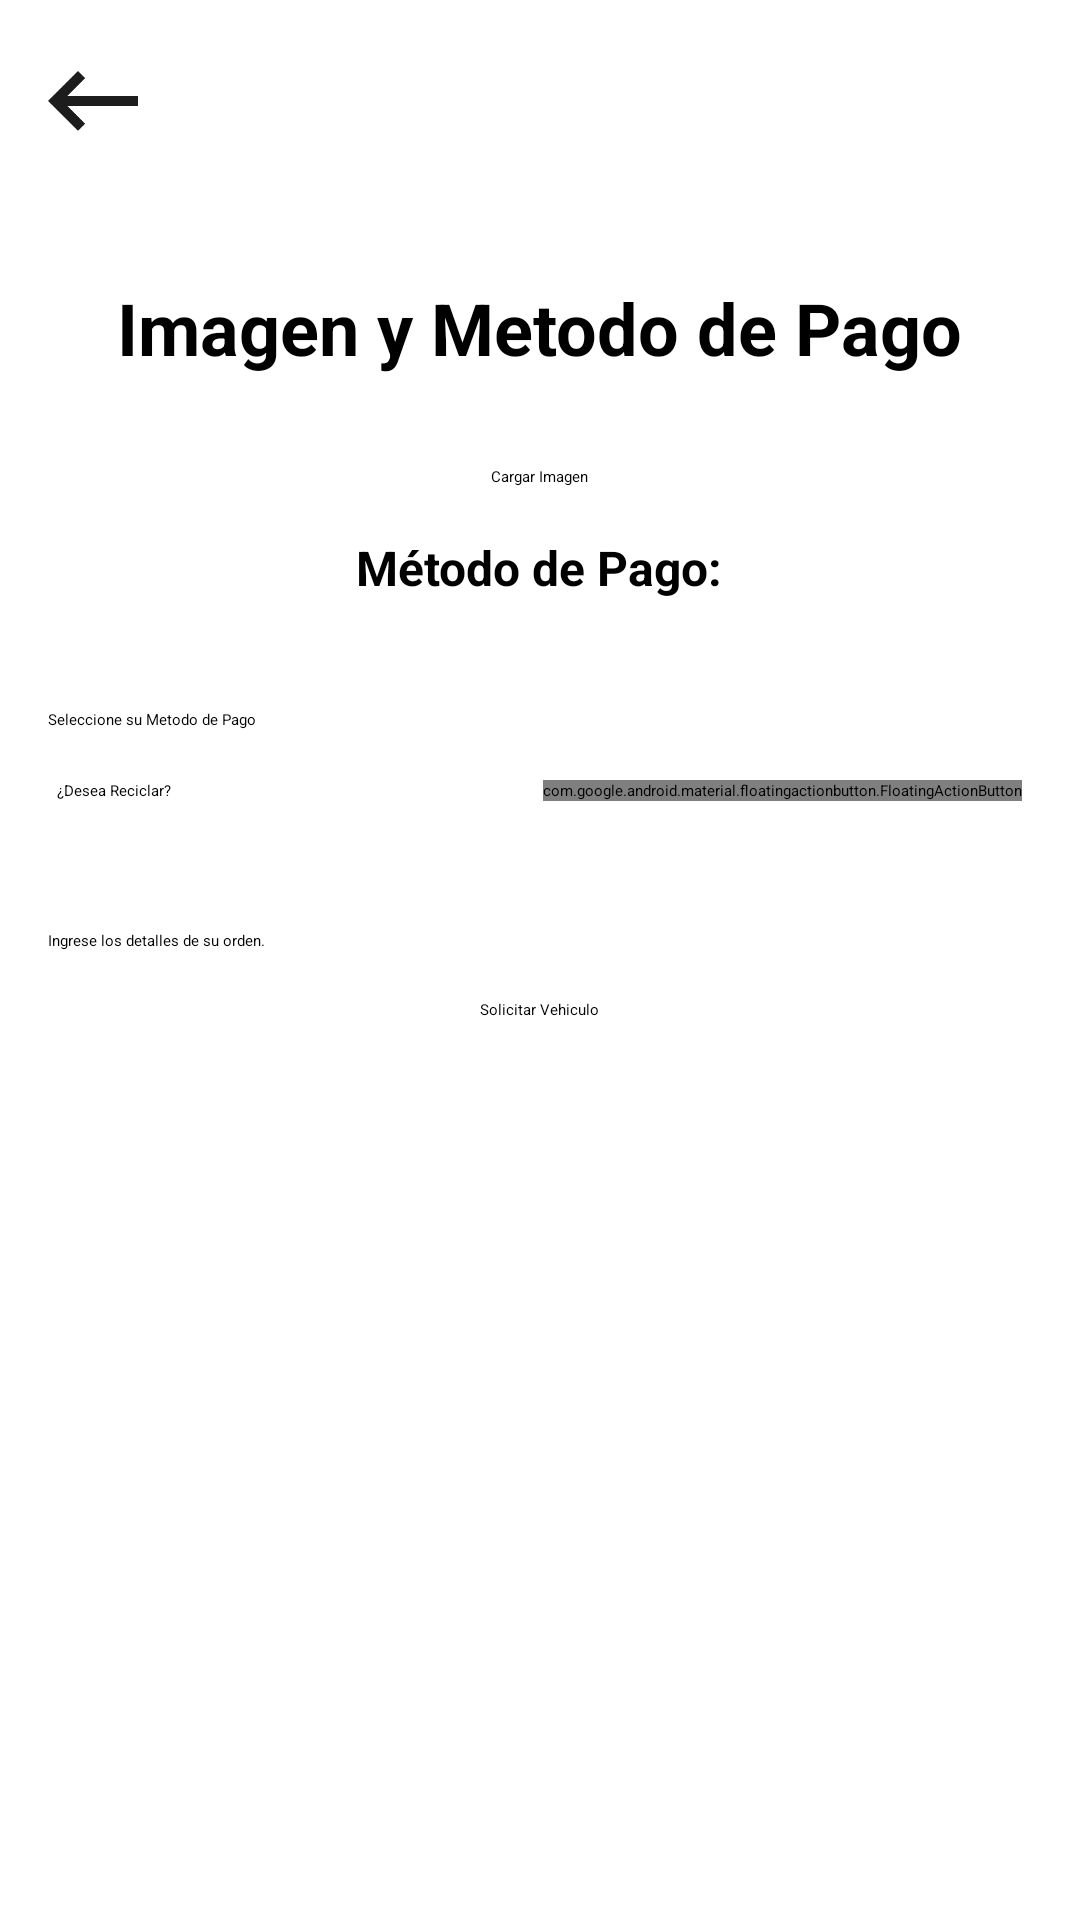

Icon click points for this 1080 x 1920 phone screenshot, format (x=x, y=y):
flechatras: (x=93, y=101)
